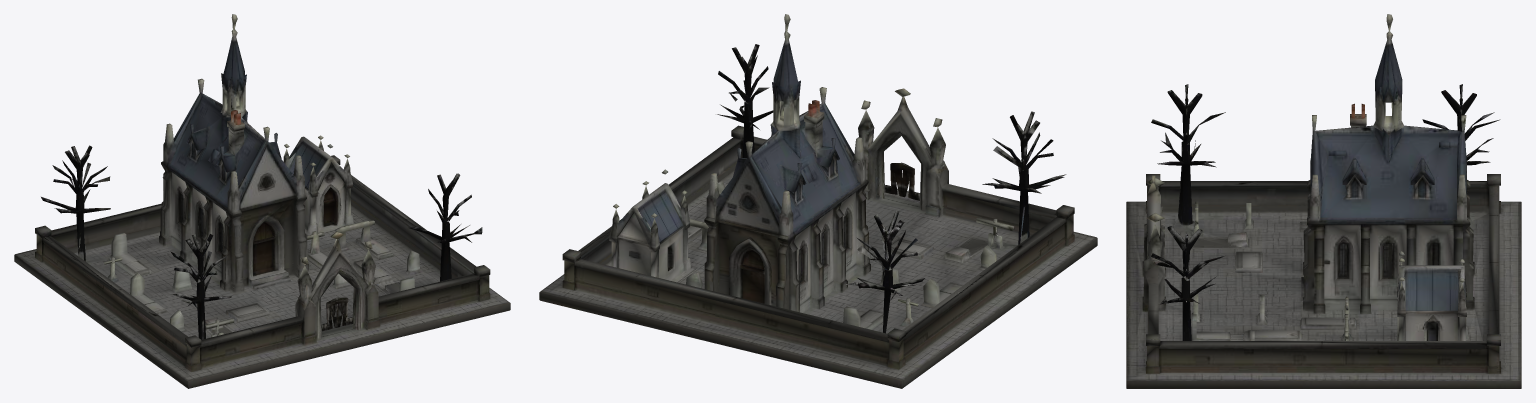
File: cemetery.glb
3 views of the same model, side by side, from view 1: azimuth 30°, elevation 25°; view 2: azimuth 150°, elevation 25°; view 3: azimuth 270°, elevation 25° (orthographic). The views are drawn at different scales.
Parts seen in each view (by area): view 1: tripo_node_20758216-0f9b-422c-8cd2-c626c; view 2: tripo_node_20758216-0f9b-422c-8cd2-c626c; view 3: tripo_node_20758216-0f9b-422c-8cd2-c626c.
Boxes of the visible parts, <box> form: tripo_node_20758216-0f9b-422c-8cd2-c626c: <box>14,14,510,388</box>; tripo_node_20758216-0f9b-422c-8cd2-c626c: <box>539,14,1097,388</box>; tripo_node_20758216-0f9b-422c-8cd2-c626c: <box>1126,14,1521,388</box>.
Size of the model in its own units: 29.66 by 22 by 27.69.
Materials: 1 (1 with a texture image).
